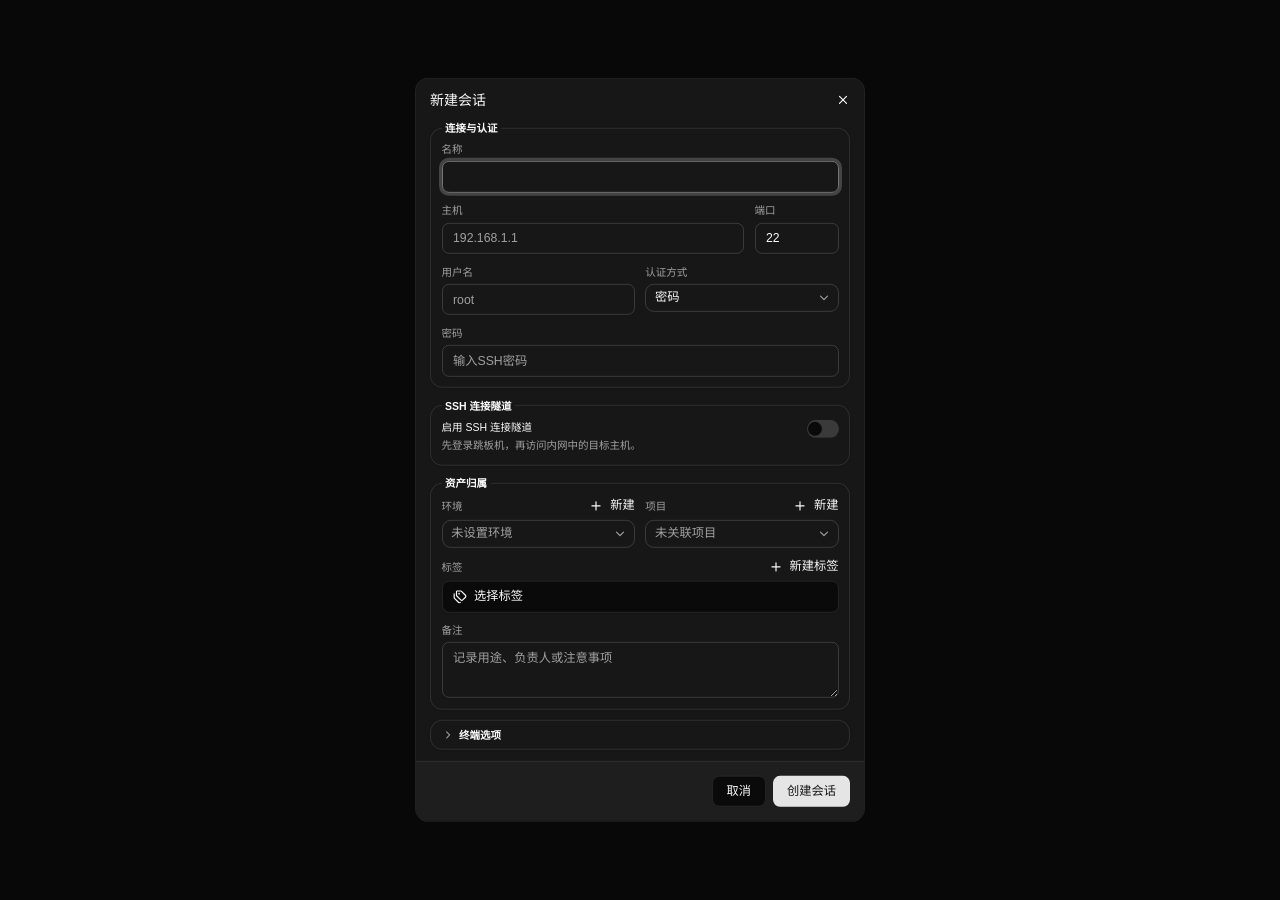
Test: SessionDialog › shows key ID field when switching to key auth
Click the dropdown labelled "密码 ▼" at (742, 298), box top-left (645, 284), bottom-right (839, 312)
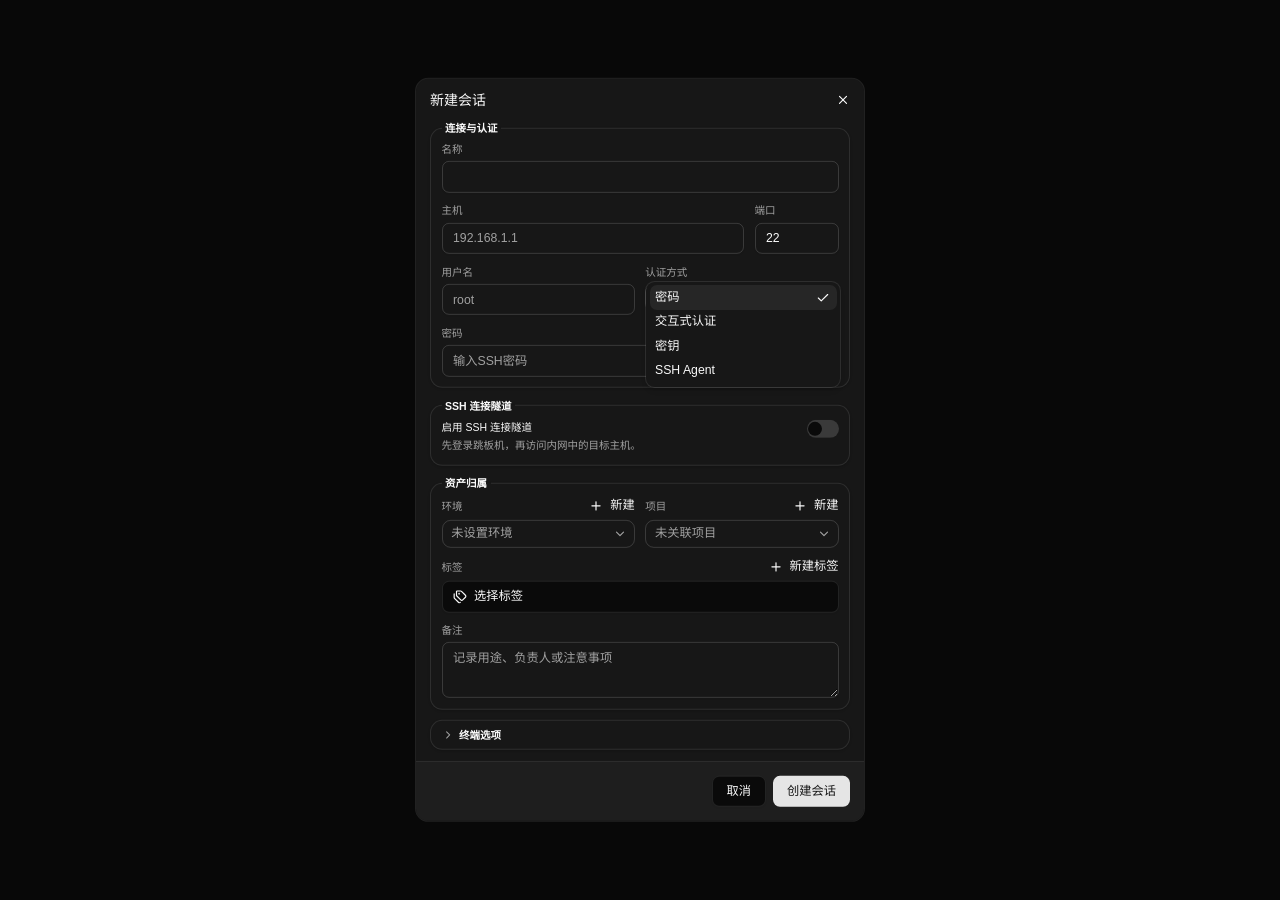
Click the option "密钥" at (667, 346), box top-left (655, 339), bottom-right (680, 353)
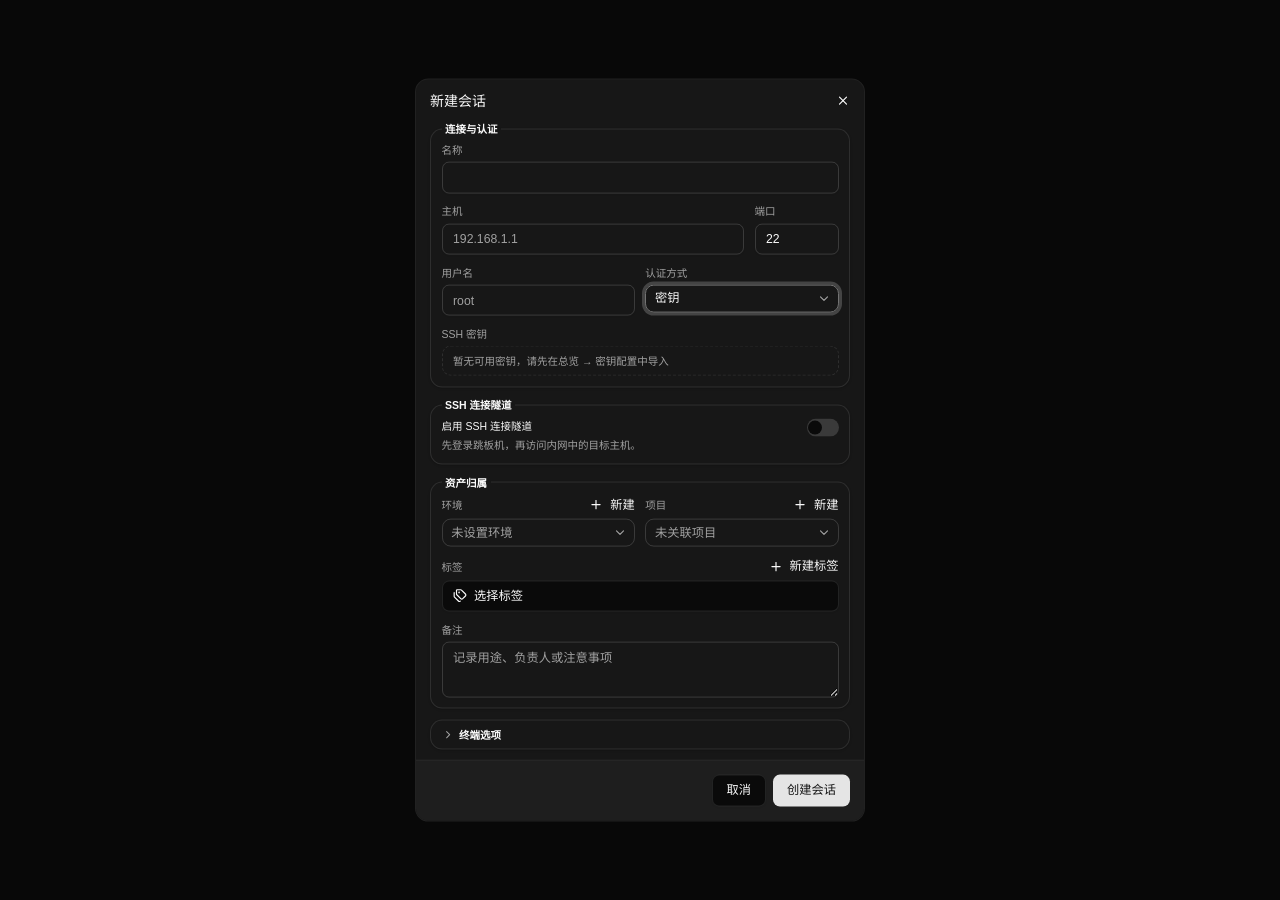
Result: the text "SSH 密钥" is shown at top-left (442, 327), bottom-right (487, 339)
